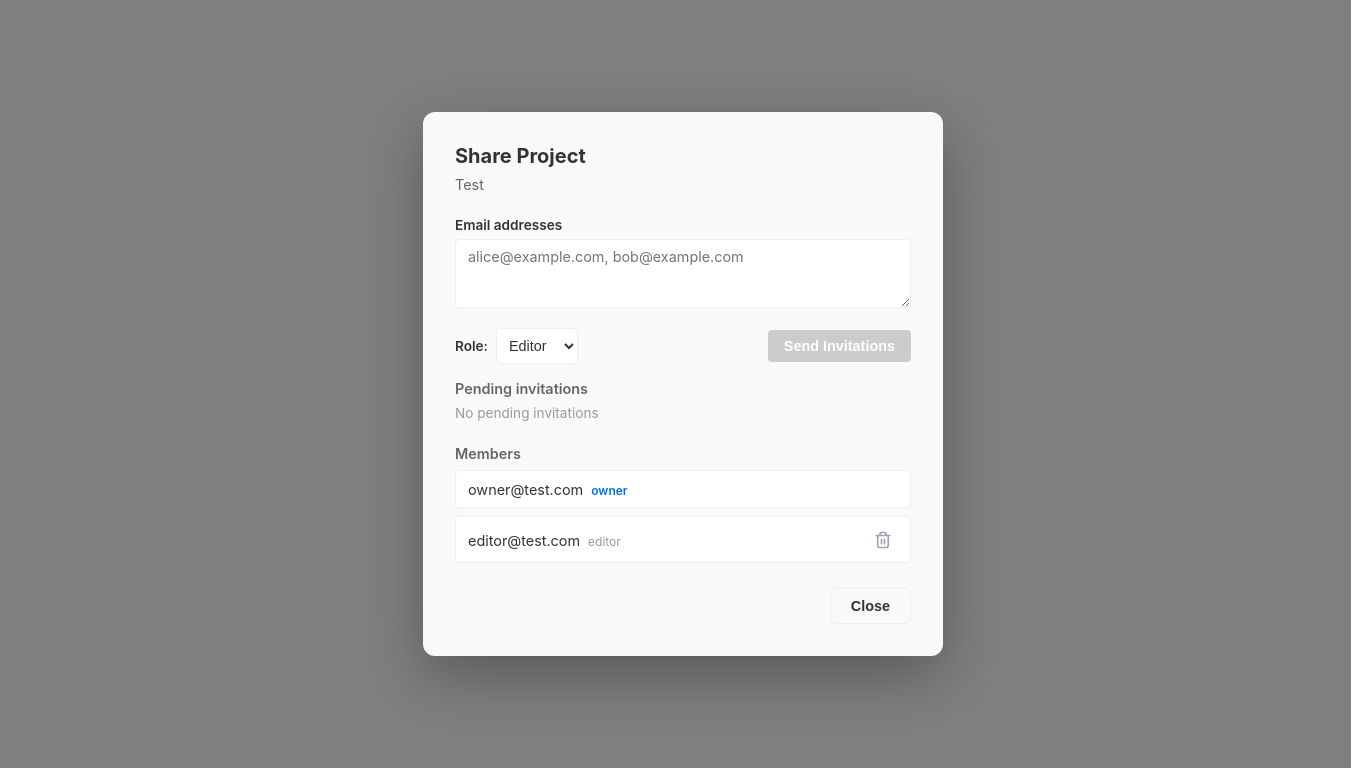
Test: ShareDialog › removing a member › keeps the member when the confirm is cancelled
Click the button named "Remove member". click: (883,540)
box: [869, 525, 898, 554]
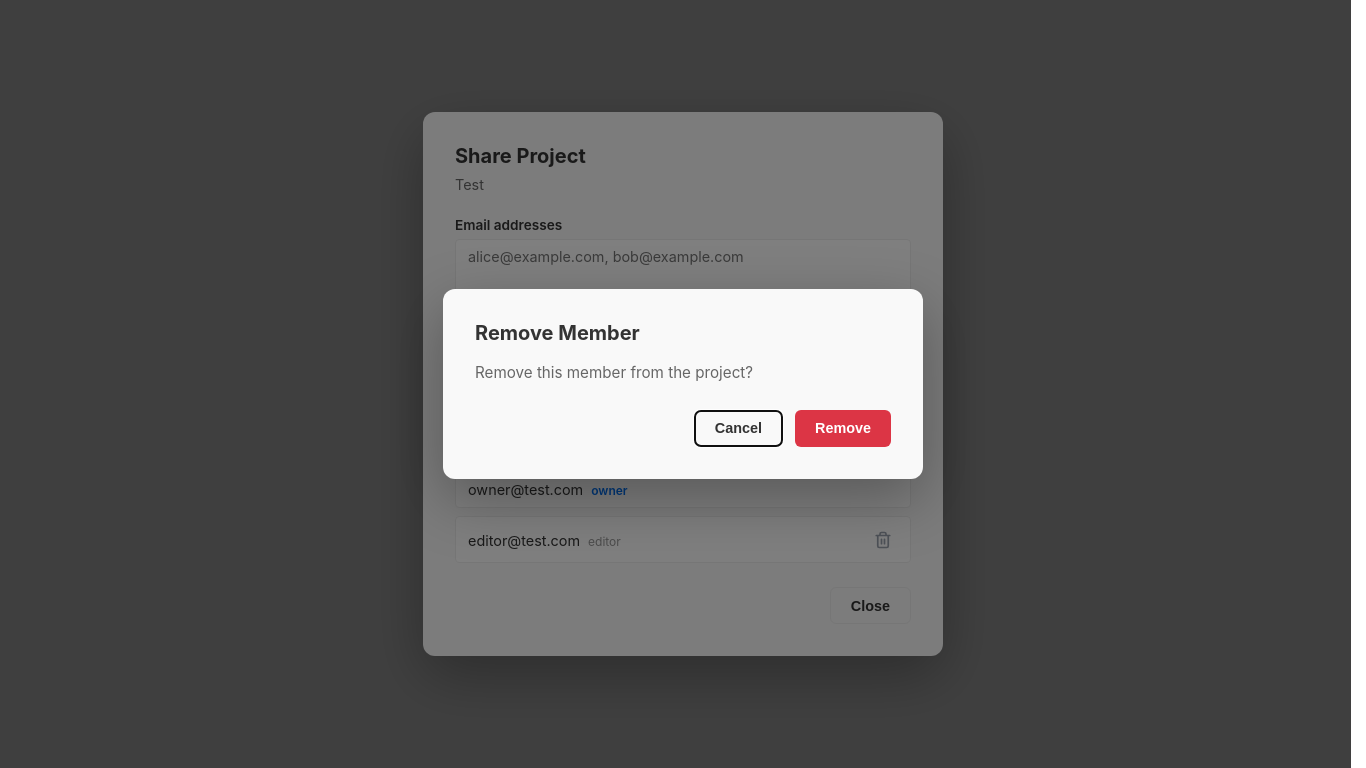
Expected: the dialog "Remove Member" is shown, [443, 289, 923, 479]
Click the button "Cancel". click: (738,428)
box: [694, 410, 783, 447]
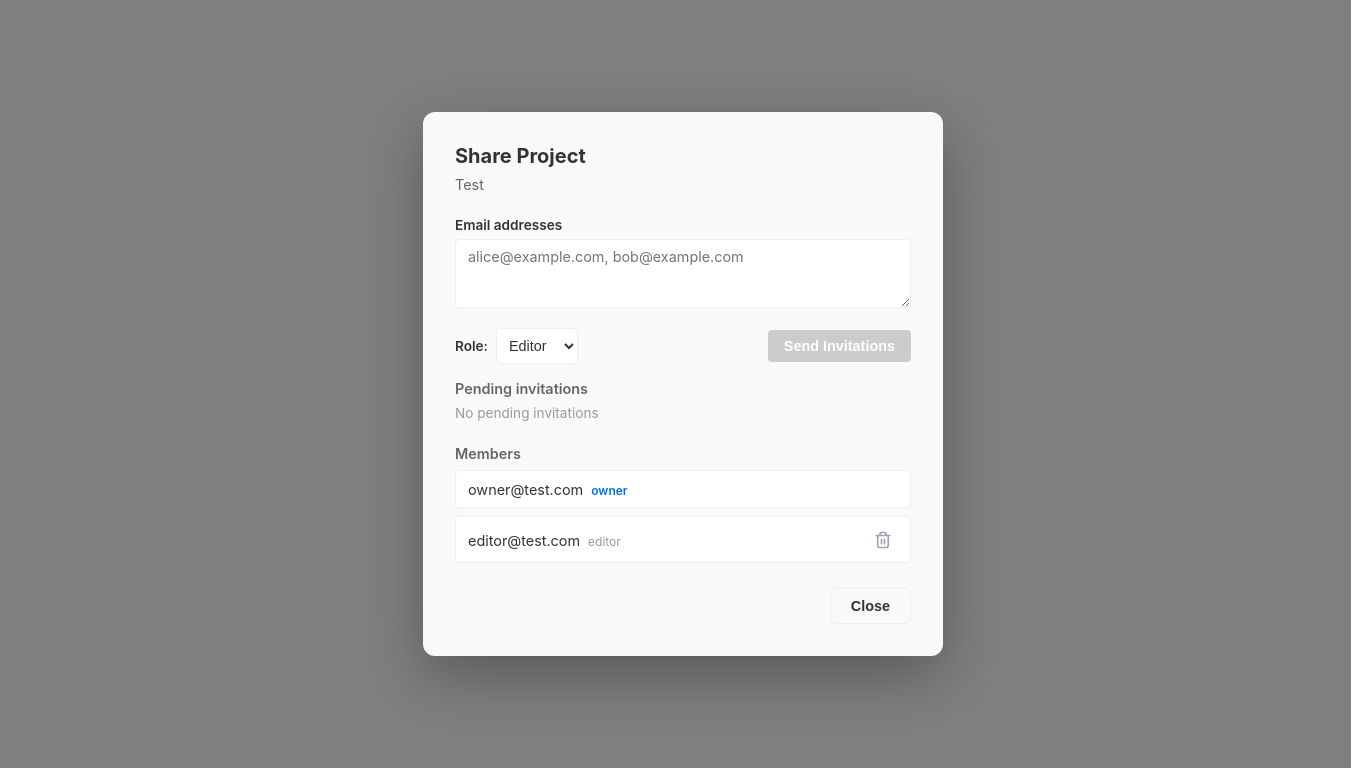
Expected: the text "editor@test.com" is shown, [468, 532, 580, 549]
Expected: the heading "Remove Member" is gone
